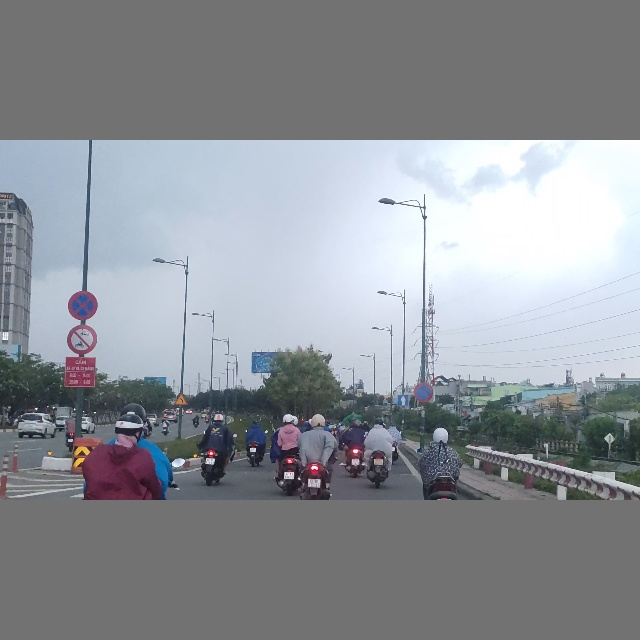I.407a: (398, 395, 409, 406)
P.111: (67, 324, 97, 355)
P.130: (68, 291, 98, 320)
P.131a: (413, 382, 433, 402)
W.201a: (174, 394, 188, 405)
